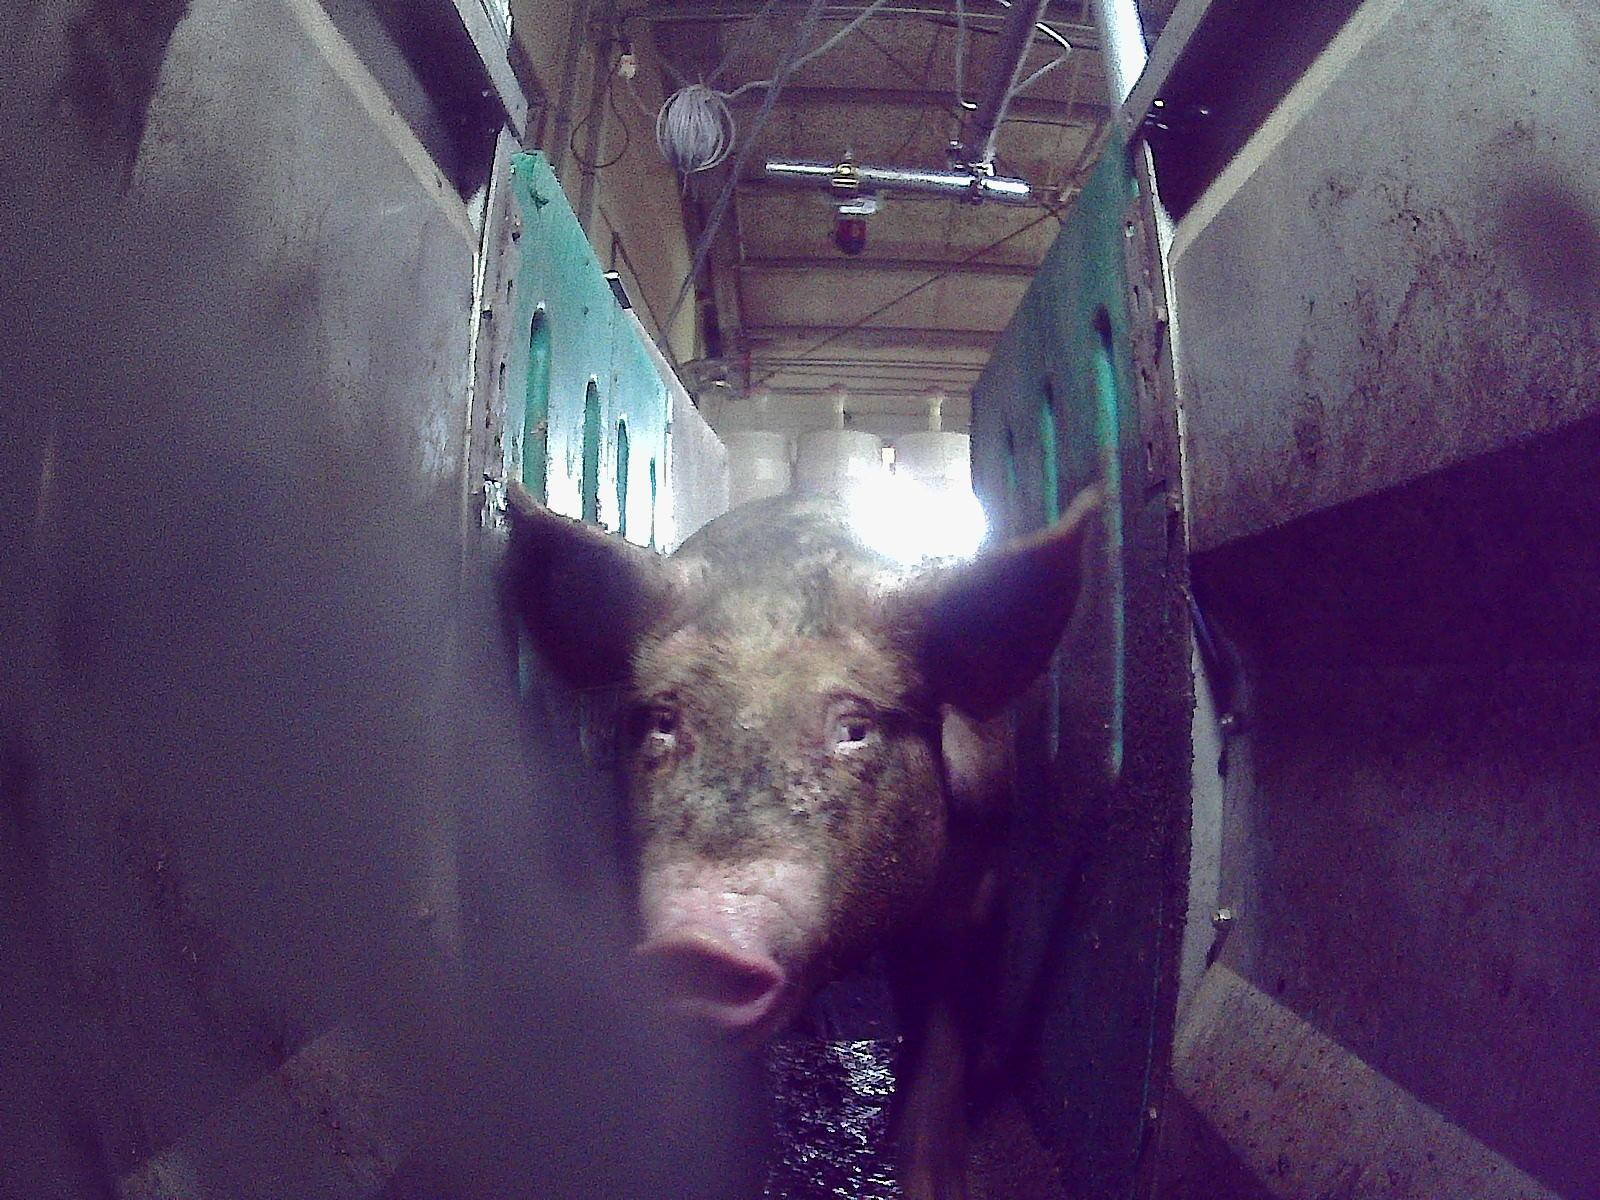Face: (621, 582, 937, 1040)
